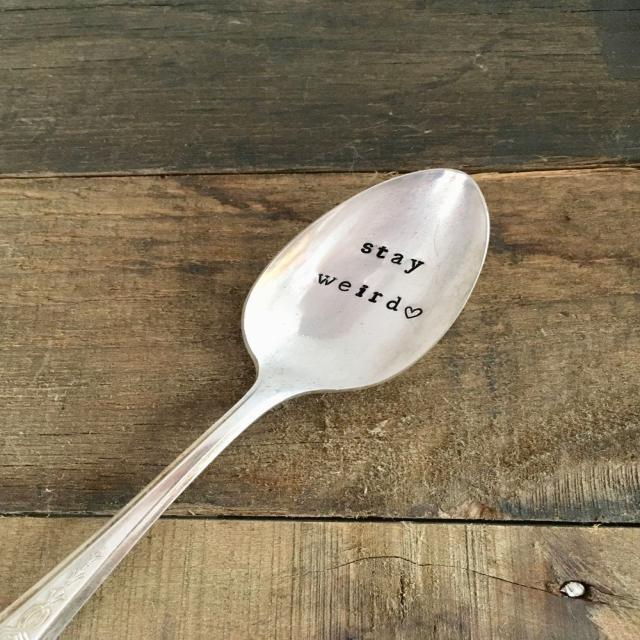spoon: (0, 158, 513, 640)
